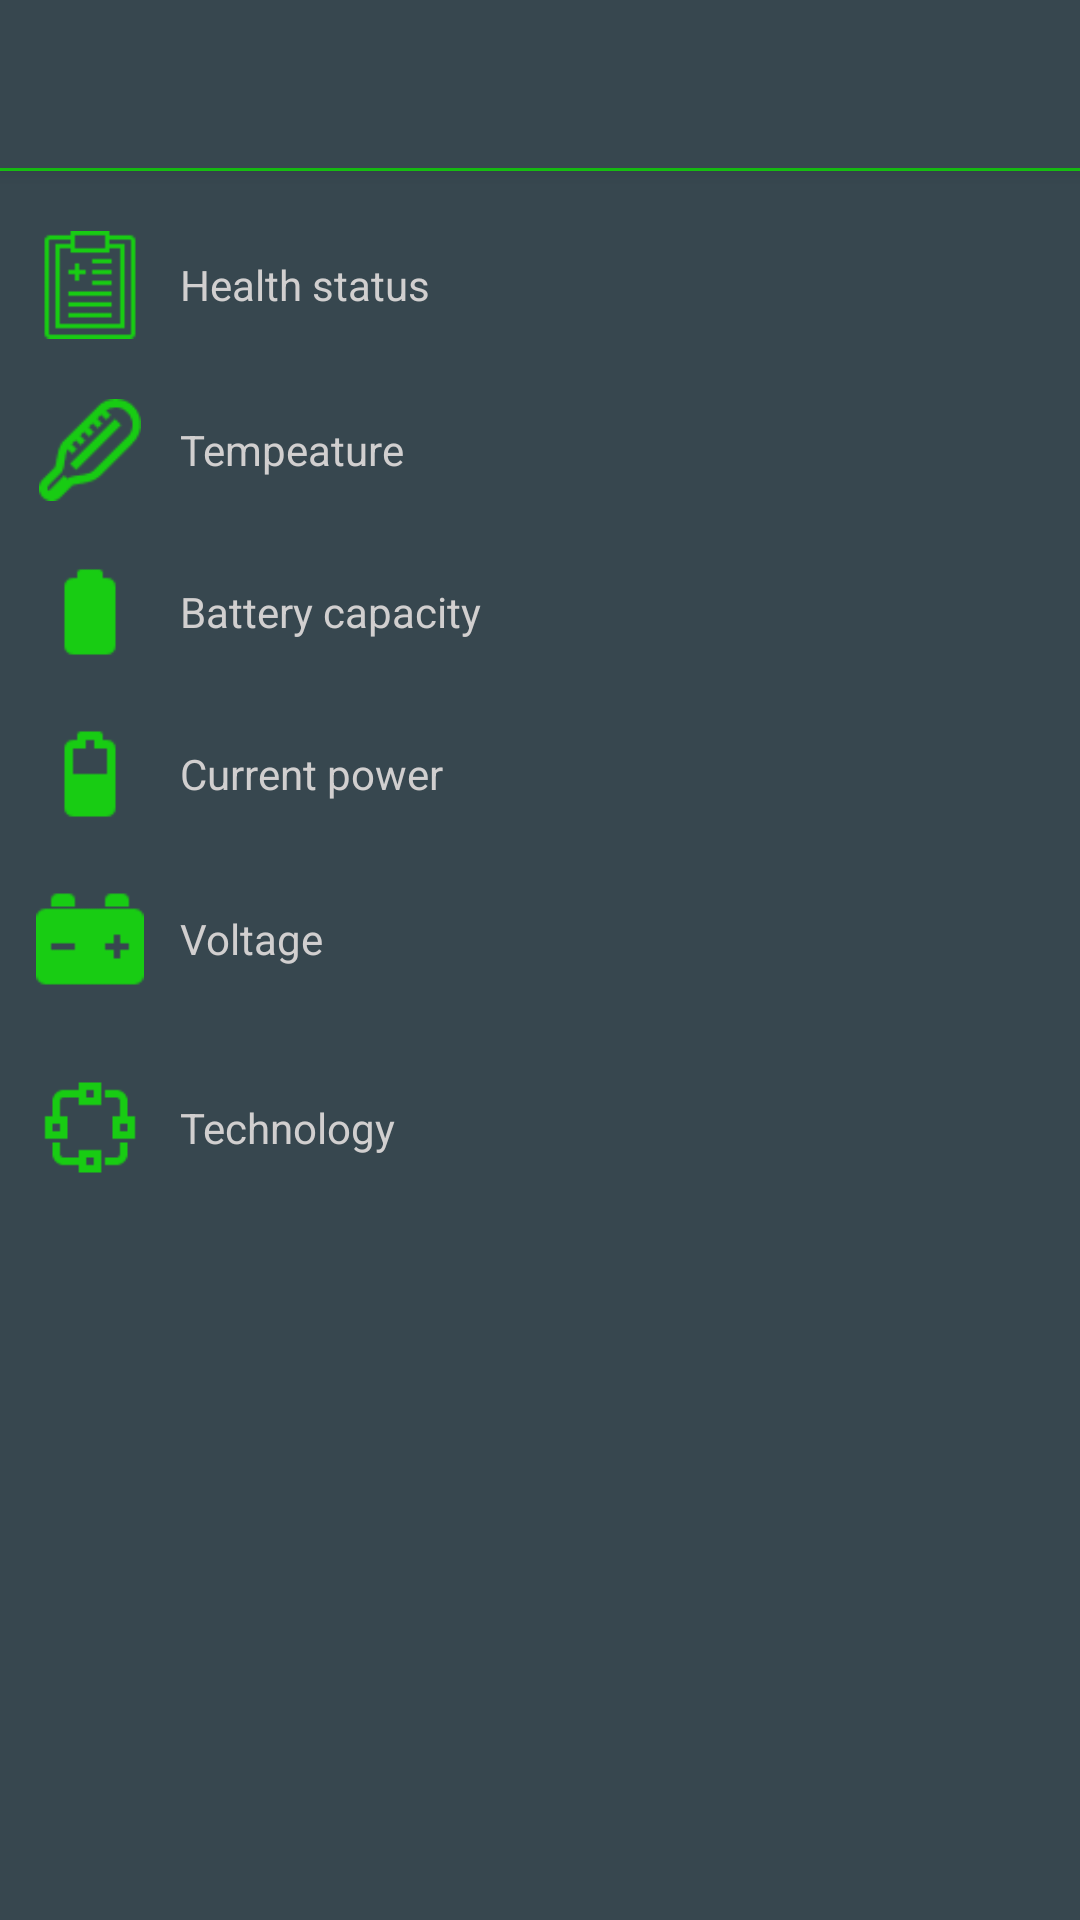

Icon click points for this 1080*1920 phone screenshot, format (x,y):
info capacity: (90,612)
info health: (90,285)
info power: (90,774)
